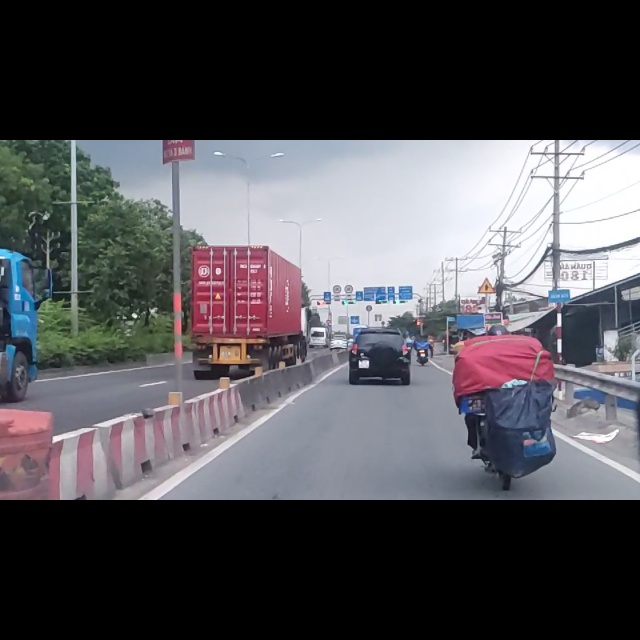bien_nguy_hiem: (478, 244, 495, 274)
